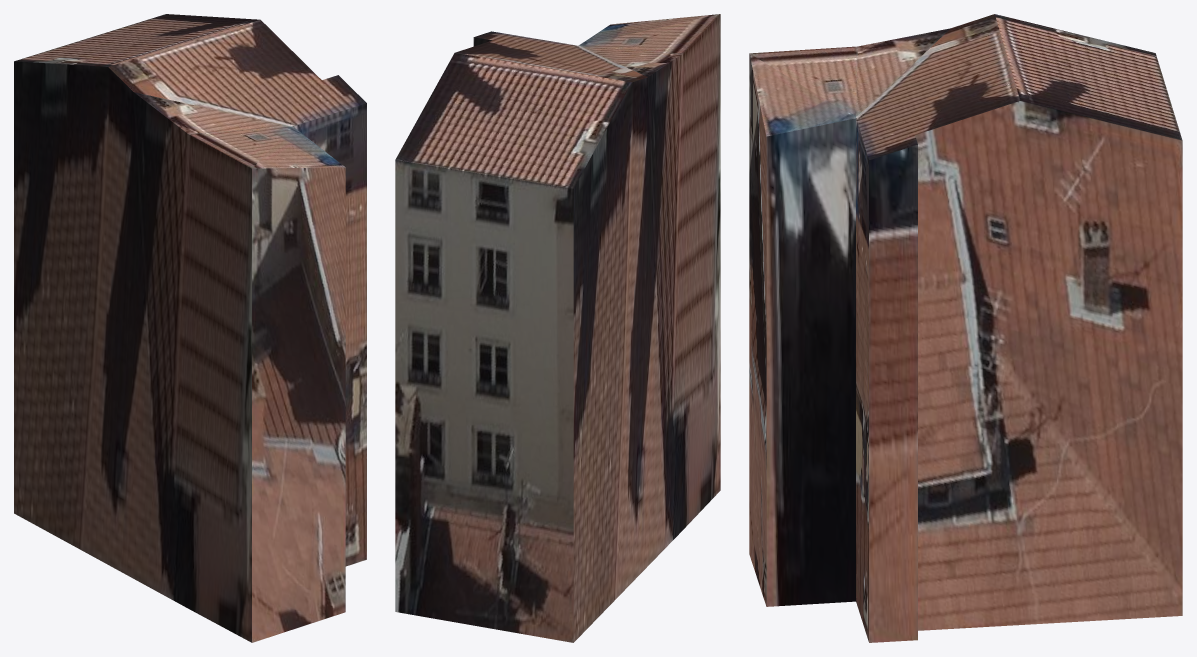
3 renders of one model, left to right at view 1: azimuth 30°, elevation 25°; view 2: azimuth 150°, elevation 25°; view 3: azimuth 270°, elevation 25°, orthographic. The views are drawn at different scales.
Parts seen in each view (by area): view 1: Z_UP; view 2: Z_UP; view 3: Z_UP.
Boxes of the visible parts, x1,y1,x2,y2 form: Z_UP: [14, 14, 366, 642]; Z_UP: [395, 14, 720, 642]; Z_UP: [749, 14, 1182, 642].
Bounding box in the file's own units: 8.25 × 18.07 × 13.48.
2 materials, 1 textured.
